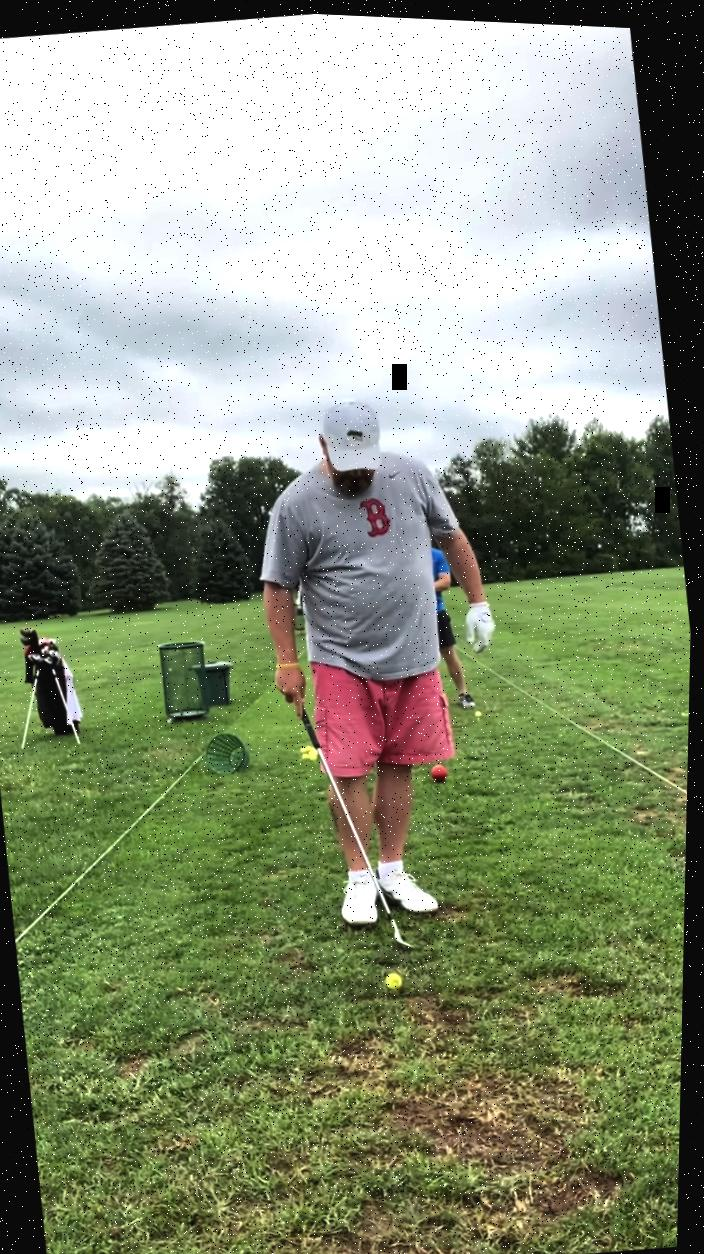ClubHead: (383, 888, 423, 965)
